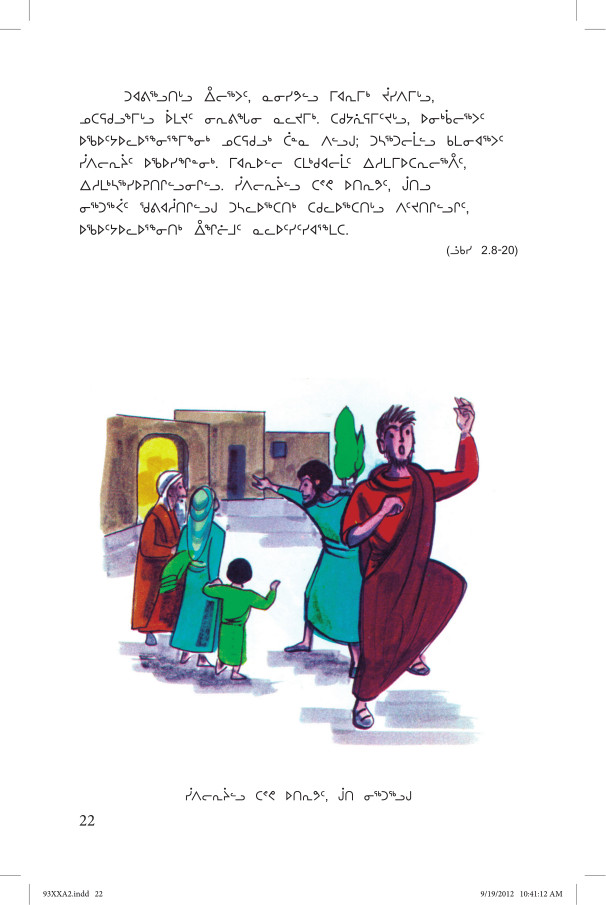inuktitut: (68, 79, 510, 241), (179, 775, 417, 805)
